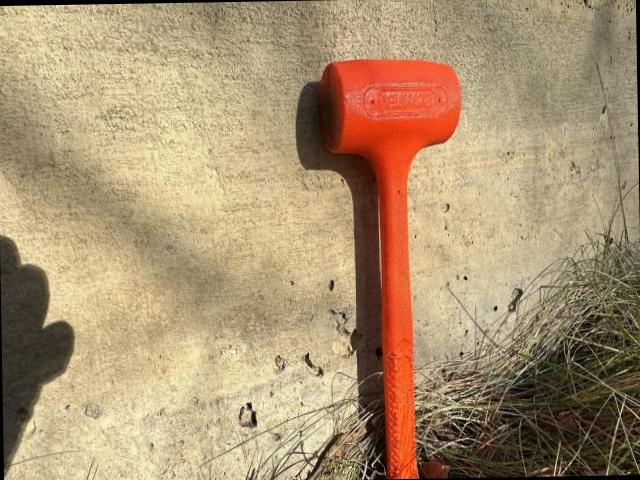hammer: (318, 55, 467, 480)
